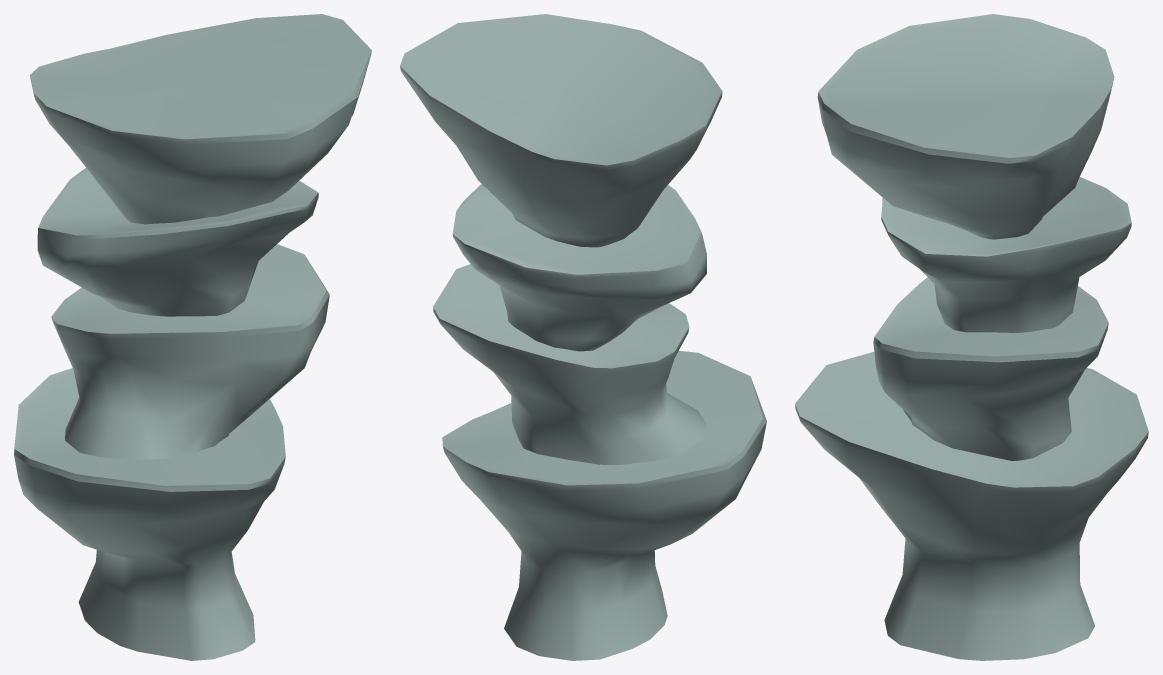
Rendered from SM_StoneShroom_Small.fbx.
The picture shows the model from 3 angles, left to right: view 1: azimuth 30°, elevation 25°; view 2: azimuth 150°, elevation 25°; view 3: azimuth 270°, elevation 25°; orthographic projection. The views are drawn at different scales.
Parts seen in each view (by area): view 1: SM_StoneShroom_Small_Placeholder_4, SM_StoneShroom_Small_Placeholder_1, SM_StoneShroom_Small_Placeholder_2, SM_StoneShroom_Small_Placeholder_3; view 2: SM_StoneShroom_Small_Placeholder_4, SM_StoneShroom_Small_Placeholder_1, SM_StoneShroom_Small_Placeholder_2, SM_StoneShroom_Small_Placeholder_3; view 3: SM_StoneShroom_Small_Placeholder_1, SM_StoneShroom_Small_Placeholder_4, SM_StoneShroom_Small_Placeholder_2, SM_StoneShroom_Small_Placeholder_3.
Boxes of the visible parts, <box> form: SM_StoneShroom_Small_Placeholder_4: <box>30,14,371,224</box>; SM_StoneShroom_Small_Placeholder_1: <box>14,368,285,660</box>; SM_StoneShroom_Small_Placeholder_2: <box>51,244,329,460</box>; SM_StoneShroom_Small_Placeholder_3: <box>37,167,318,316</box>; SM_StoneShroom_Small_Placeholder_4: <box>400,14,722,247</box>; SM_StoneShroom_Small_Placeholder_1: <box>442,351,766,660</box>; SM_StoneShroom_Small_Placeholder_2: <box>433,264,706,464</box>; SM_StoneShroom_Small_Placeholder_3: <box>452,184,706,351</box>; SM_StoneShroom_Small_Placeholder_1: <box>795,352,1148,660</box>; SM_StoneShroom_Small_Placeholder_4: <box>817,14,1114,239</box>; SM_StoneShroom_Small_Placeholder_2: <box>873,277,1108,461</box>; SM_StoneShroom_Small_Placeholder_3: <box>881,177,1131,332</box>.
Bounding box in the file's own units: 1554 × 2471 × 1409.
